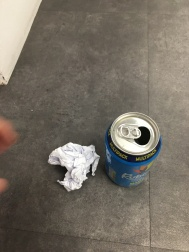can_blue: (92, 100, 174, 204)
paper_white: (43, 134, 103, 201)
